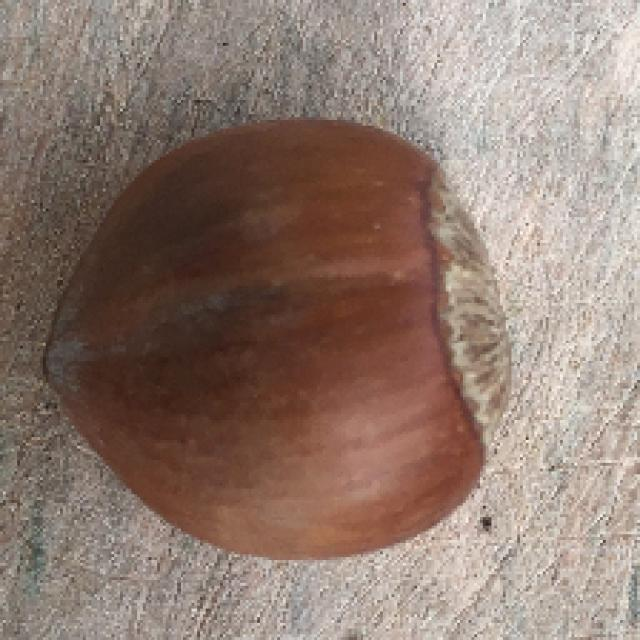DamagedHazelnut: (40, 116, 521, 557)
